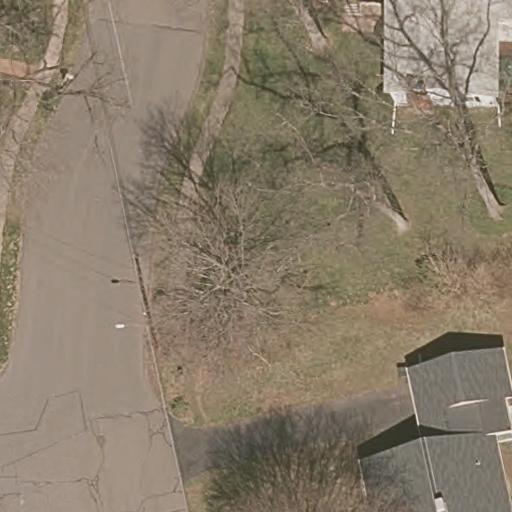DT: (116, 307, 158, 354)
